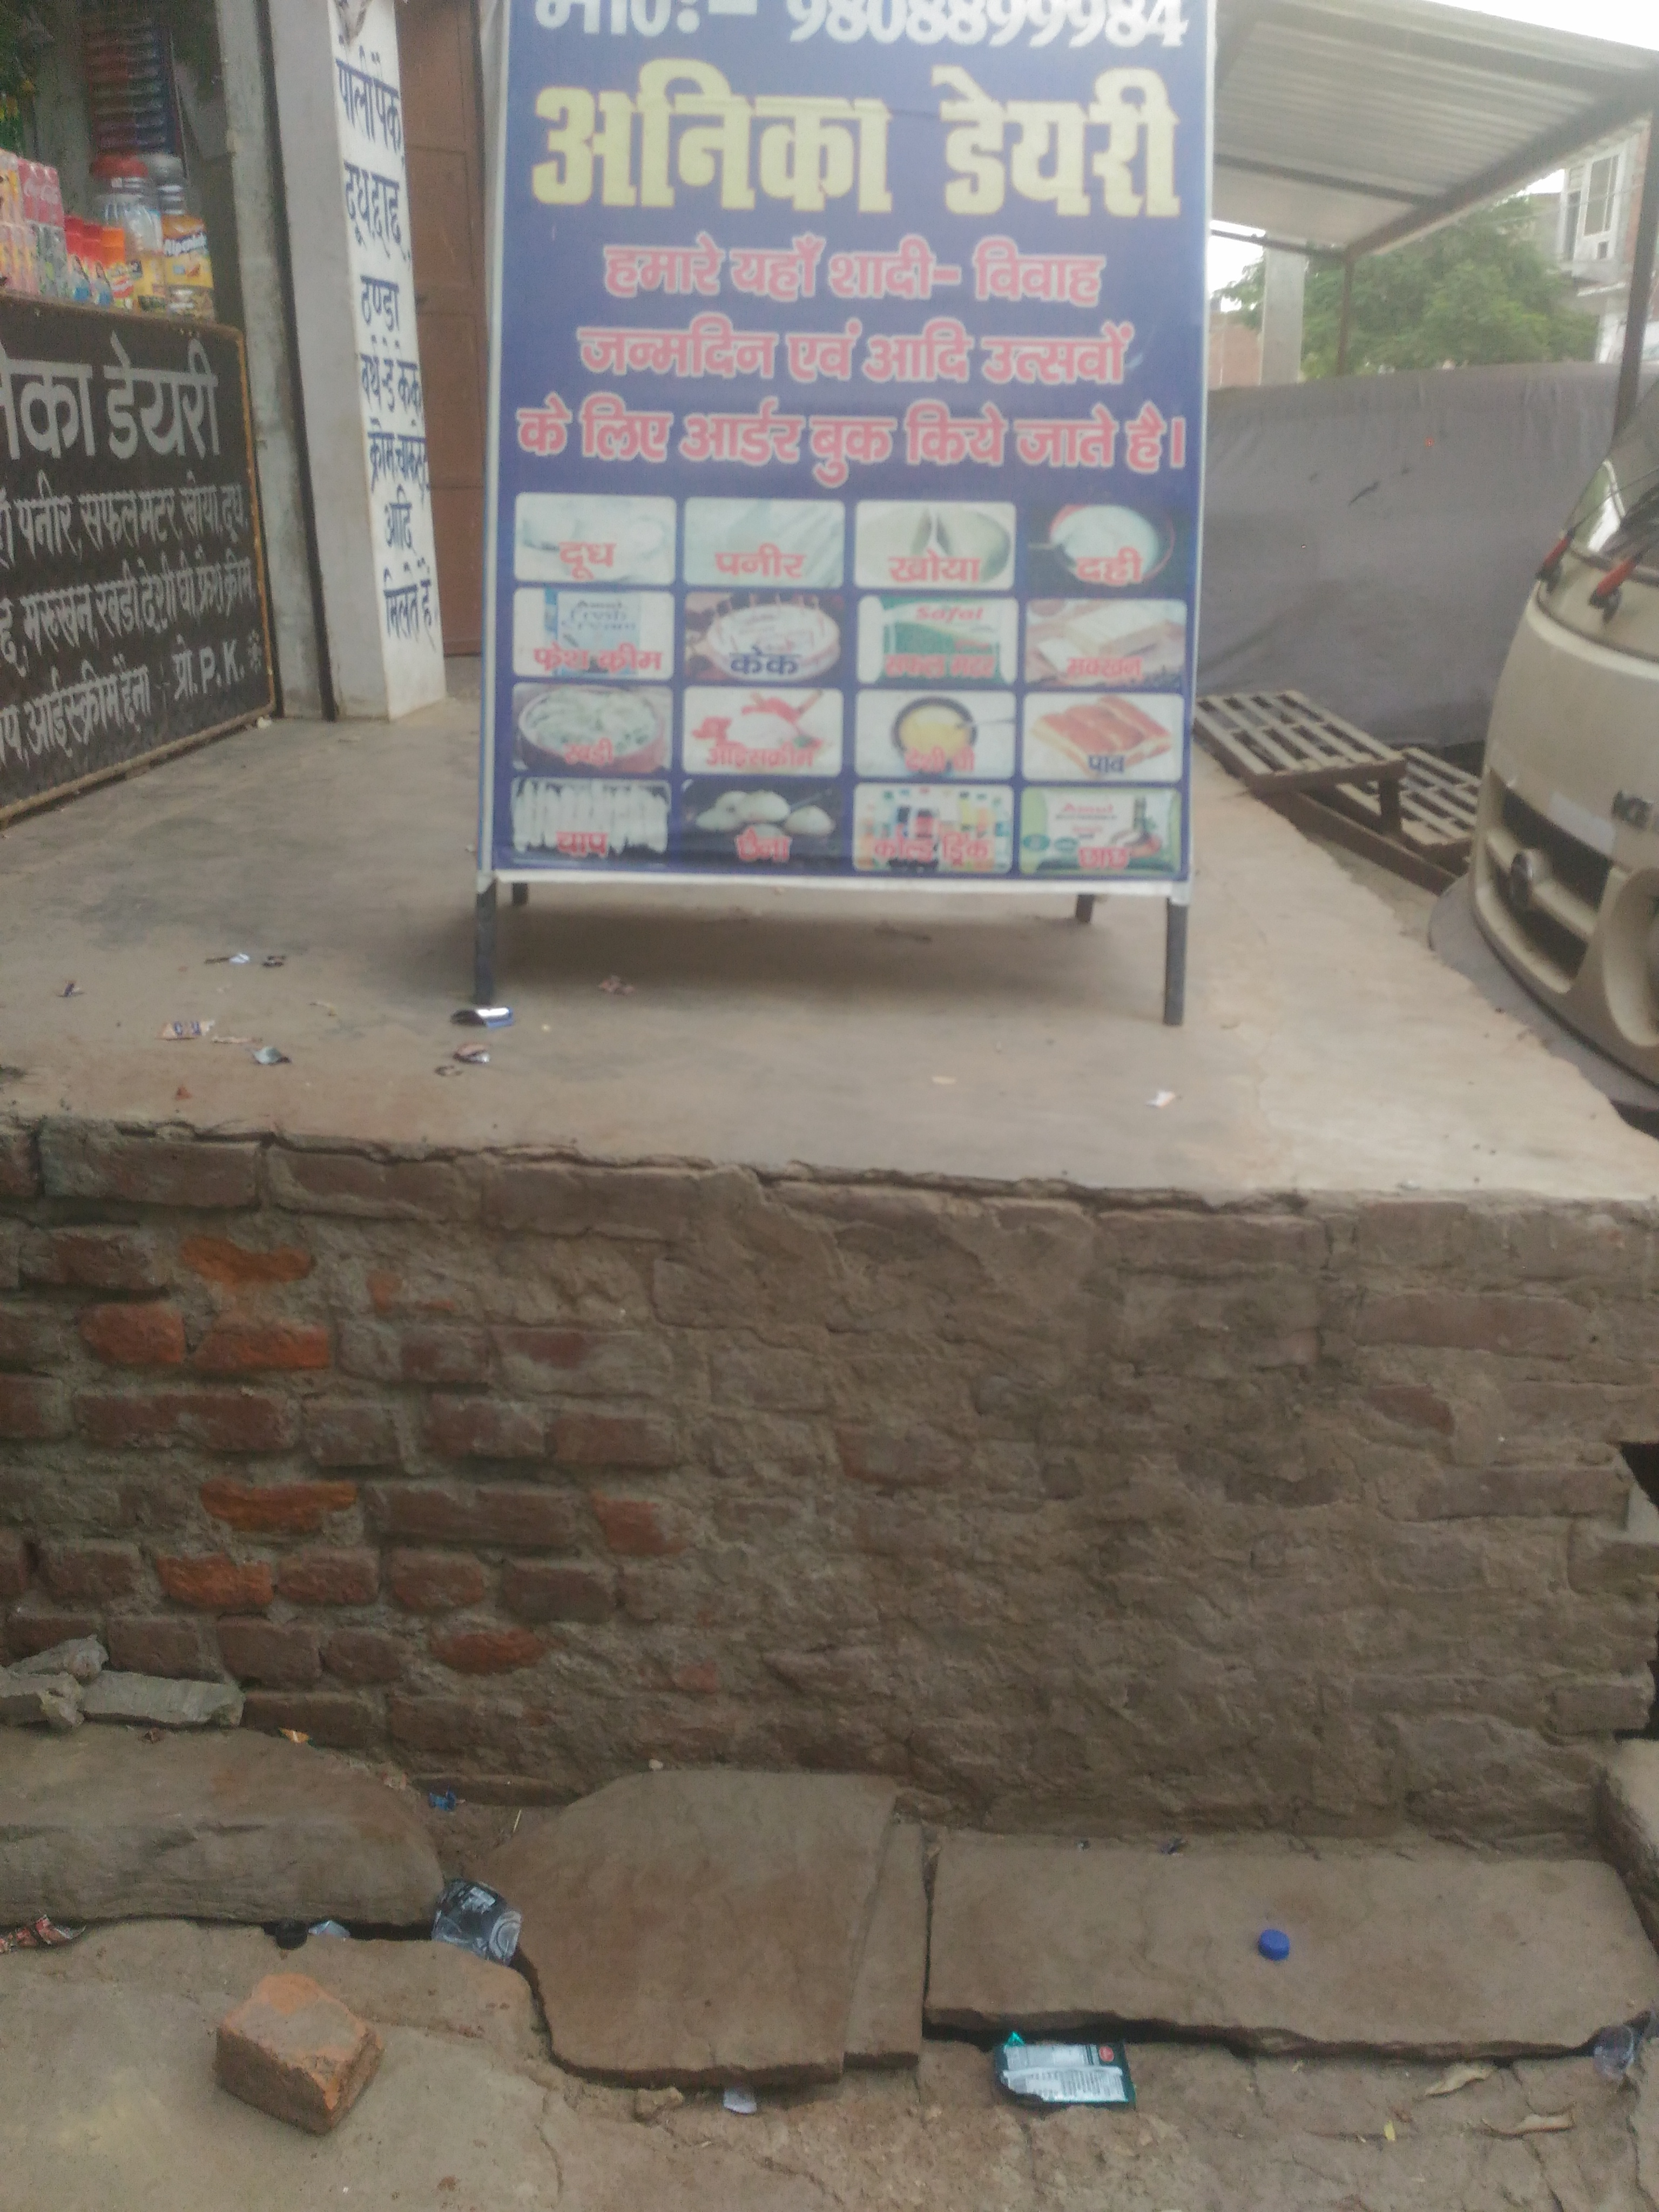text: (471, 3, 1220, 900), (0, 152, 331, 867), (301, 0, 481, 721)
